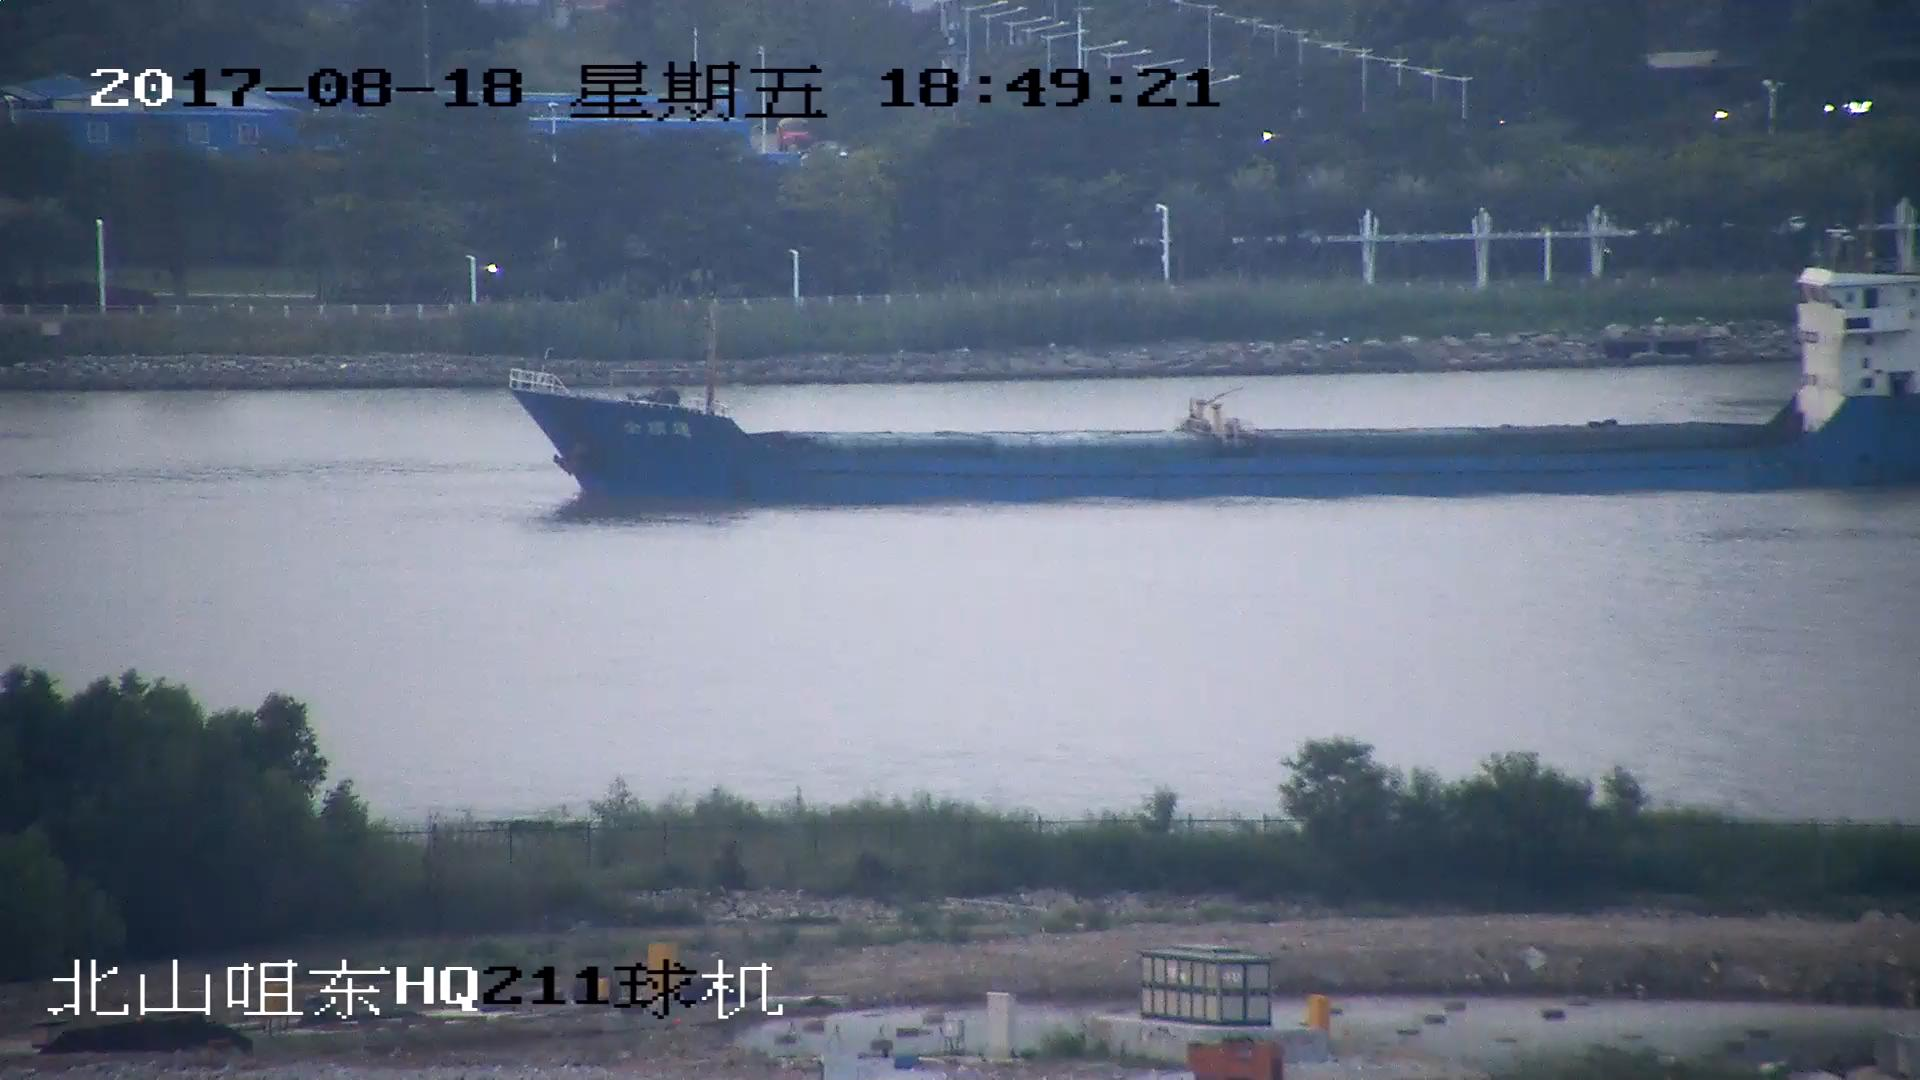general cargo ship: (499, 261, 1920, 505)
